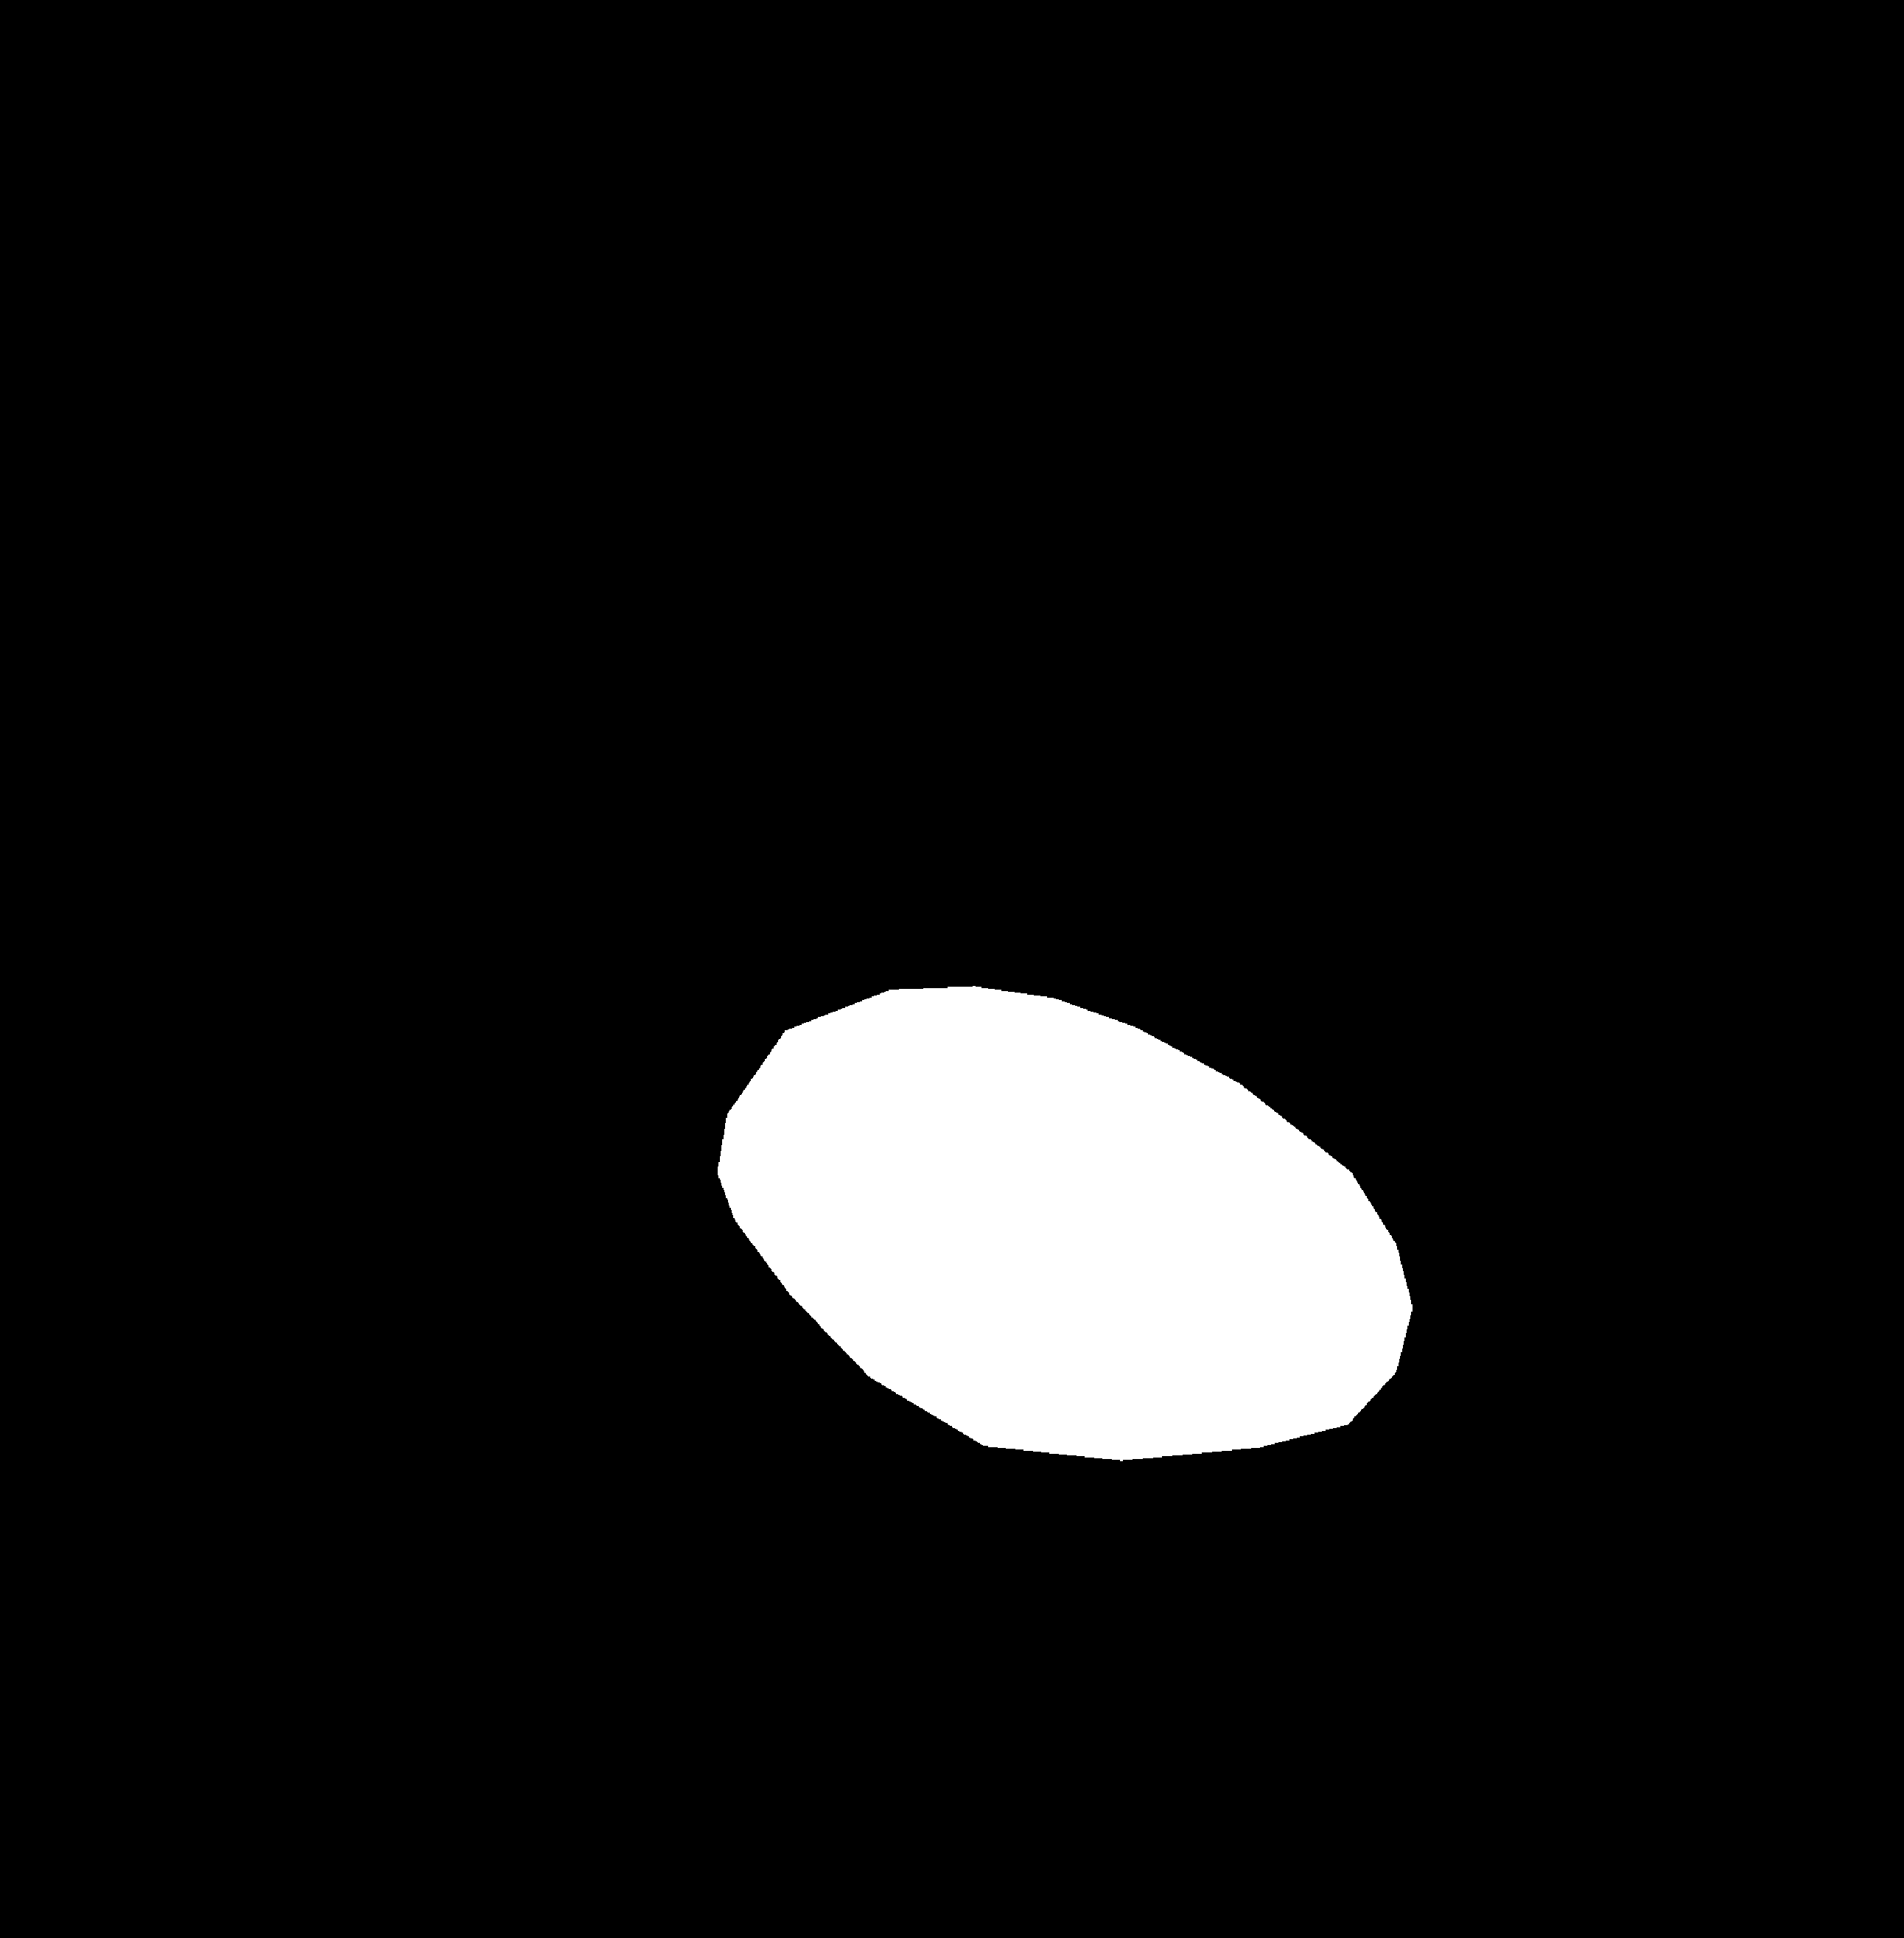heart: (746, 984, 1419, 1457)
left_lung: (277, 363, 896, 1350)
right_lung: (1050, 356, 1752, 1561)
